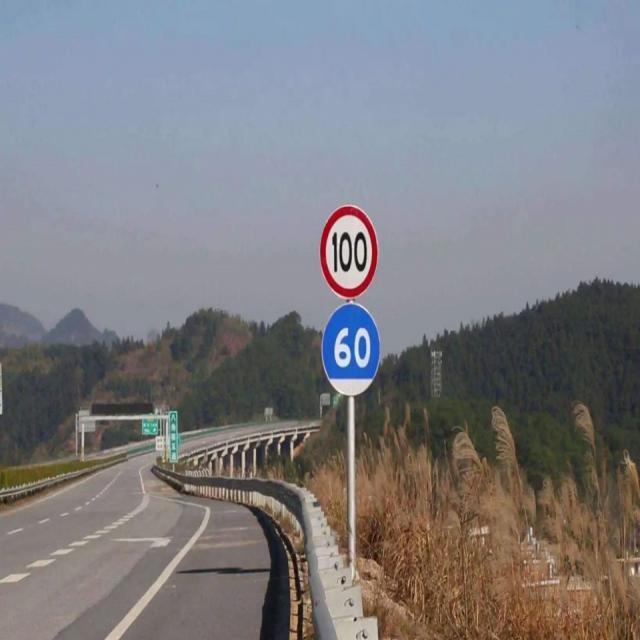speed limit 100: (320, 204, 378, 298)
speed limit 60: (321, 305, 380, 397)
